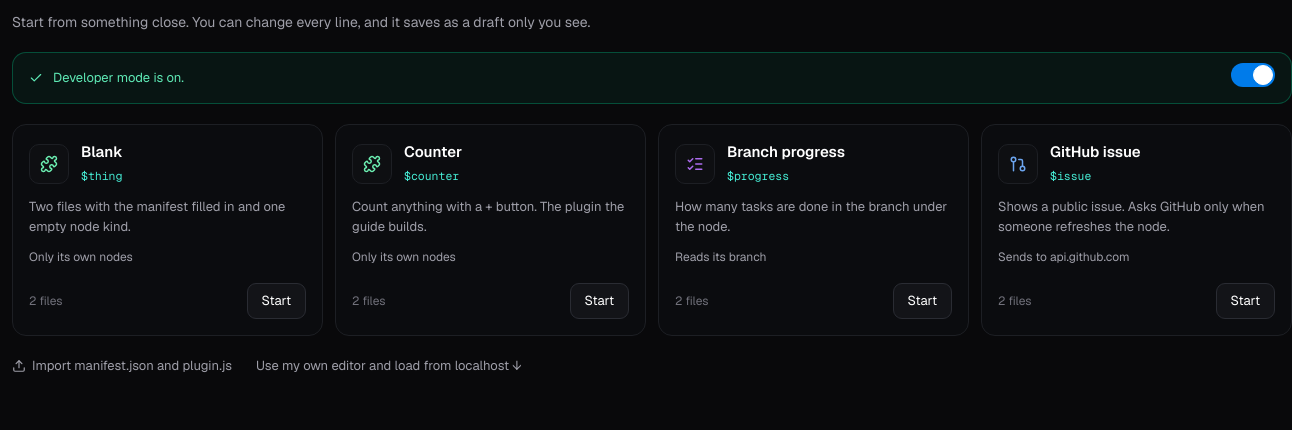
PluginStartPanel › shows the server’s reason when the draft can’t be made
Click the button "Start" below "$thing". click: (276, 301)
box: [246,283,306,319]
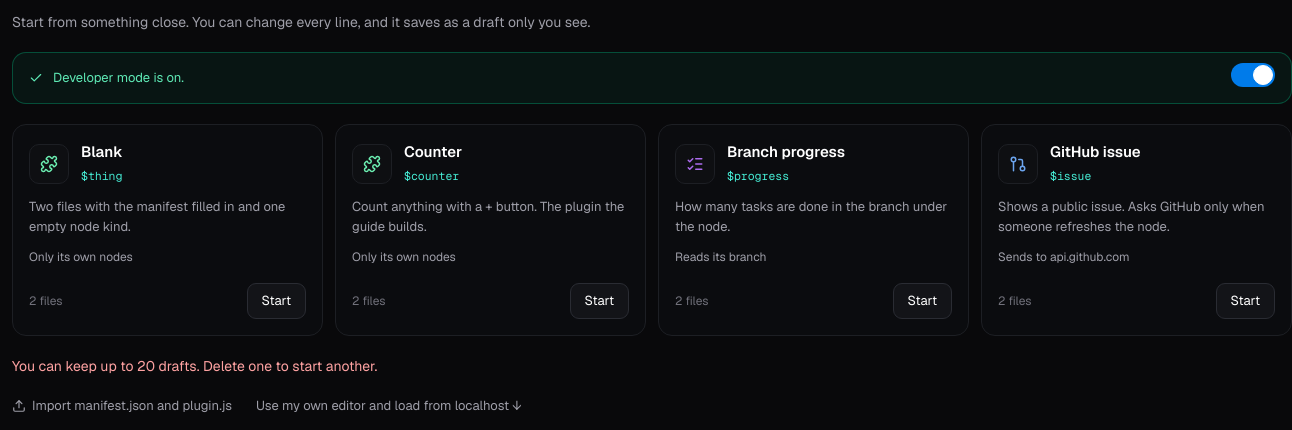
Check: the message "You can keep up to 20 drafts. Delete one to start another." is shown, box [12,357,377,375]
